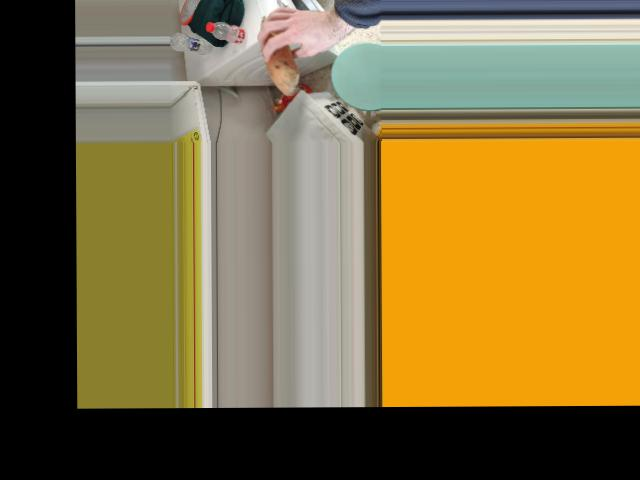sweet_potato: (259, 11, 296, 93)
